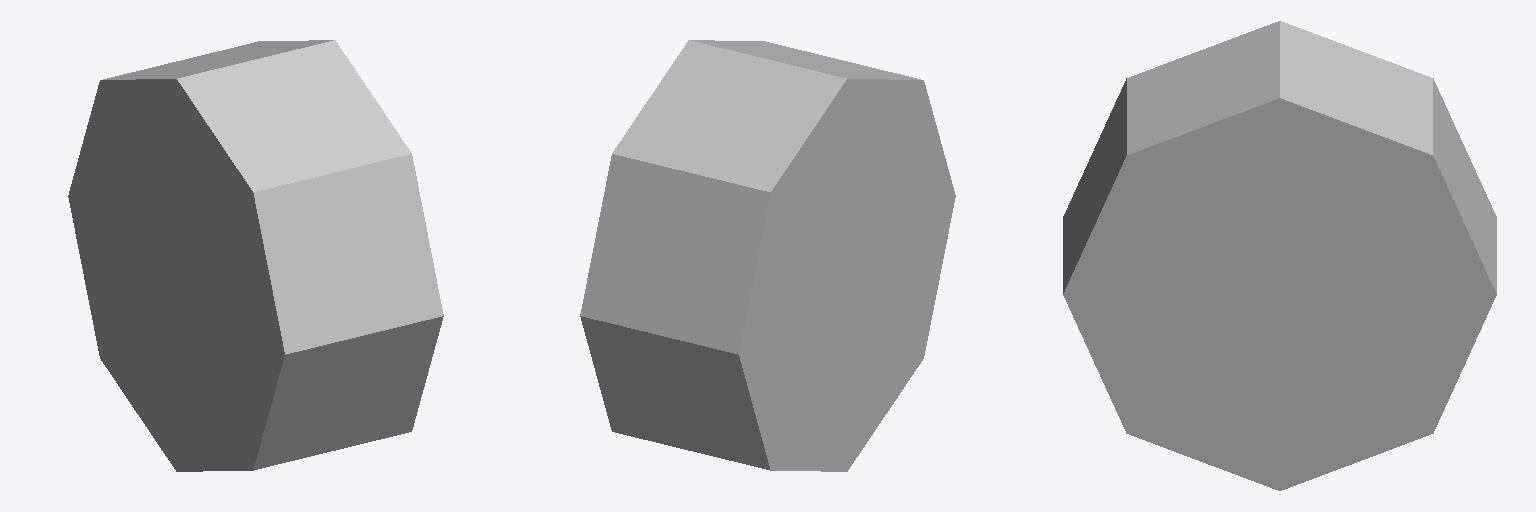
The model's file is wheel.obj.
3 views of the same model, side by side, from view 1: azimuth 30°, elevation 25°; view 2: azimuth 150°, elevation 25°; view 3: azimuth 270°, elevation 25° (orthographic).
Parts seen in each view (by area): view 1: wheel; view 2: wheel; view 3: wheel.
Boxes of the visible parts, x1,y1,x2,y2 form: wheel: [68, 40, 443, 471]; wheel: [580, 40, 955, 471]; wheel: [1063, 21, 1496, 490].
Size of the model in its own units: 0.2813 by 0.6659 by 0.6659.